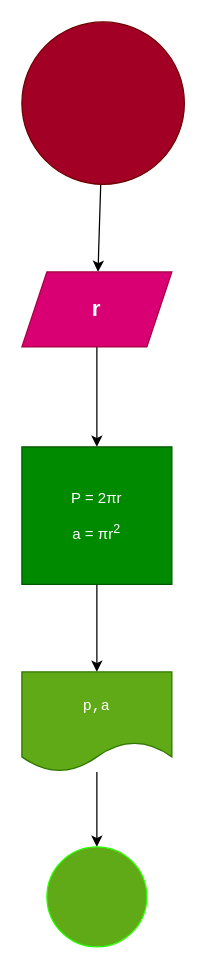
Some shapes in this 206 by 969 pixel diagram are drawn without their labels. The shapes that lost their labels are listed below. From the top down, each one's centre as x and y in pixels, then its label:
(x=102, y=102): Inicio
(x=96, y=896): FIN
